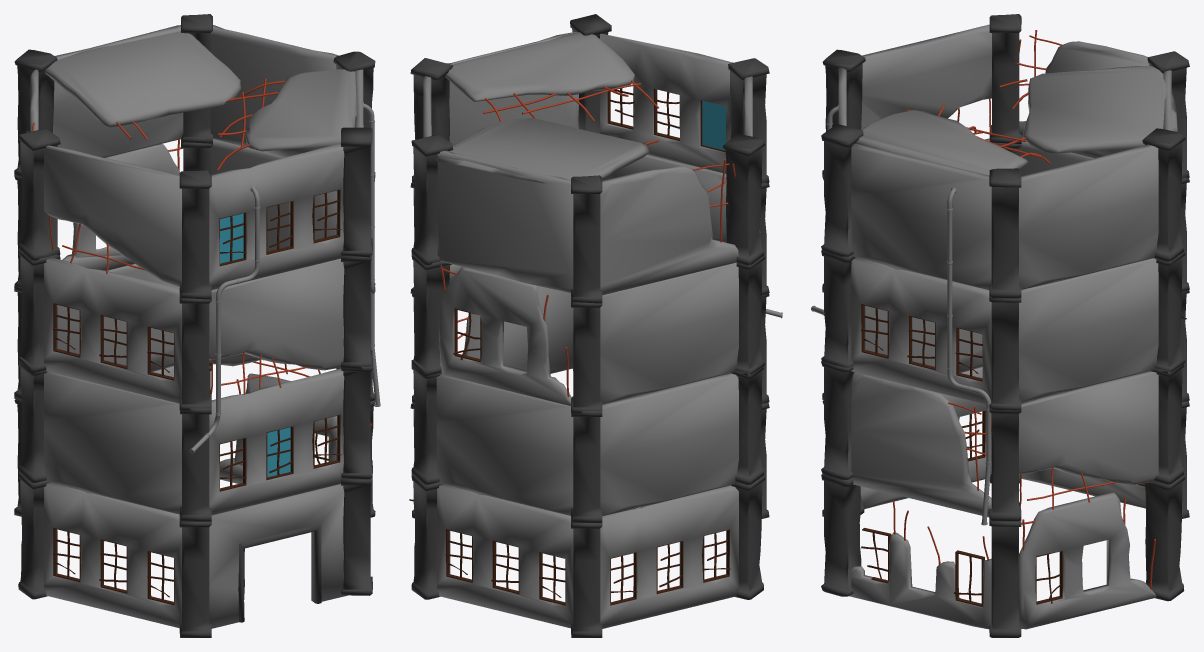
The model's file is SM_building_ruins_04.fbx.
The picture shows the model from 3 angles, left to right: view 1: azimuth 30°, elevation 25°; view 2: azimuth 150°, elevation 25°; view 3: azimuth 270°, elevation 25°; orthographic projection.
Visible parts, largest first — view 1: Object32482; view 2: Object32482; view 3: Object32482.
Boxes of the visible parts, x1,y1,x2,y2 form: Object32482: (14,14,380,637); Object32482: (409,14,782,637); Object32482: (811,14,1189,637).
Bounding box in the file's own units: 444 × 564 × 421.
